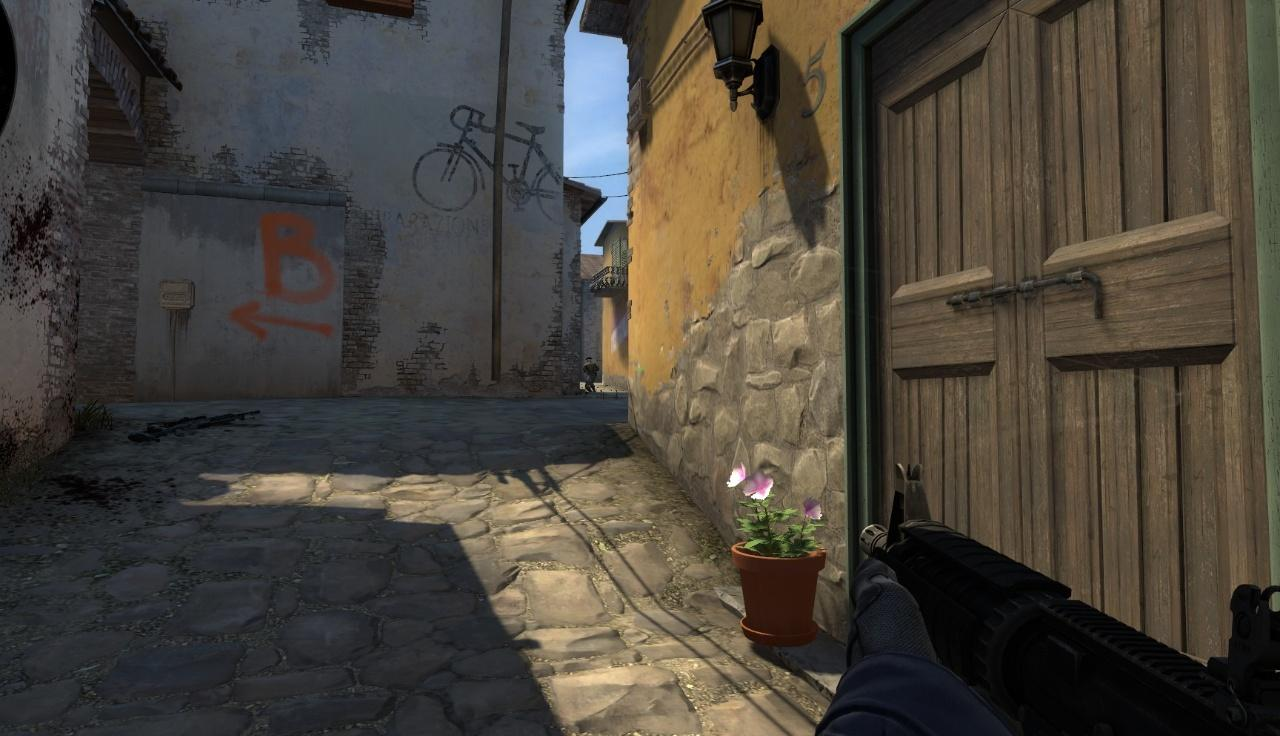rifle: (845, 483, 1280, 730)
tt: (581, 356, 599, 392)
tthead: (586, 356, 592, 363)
